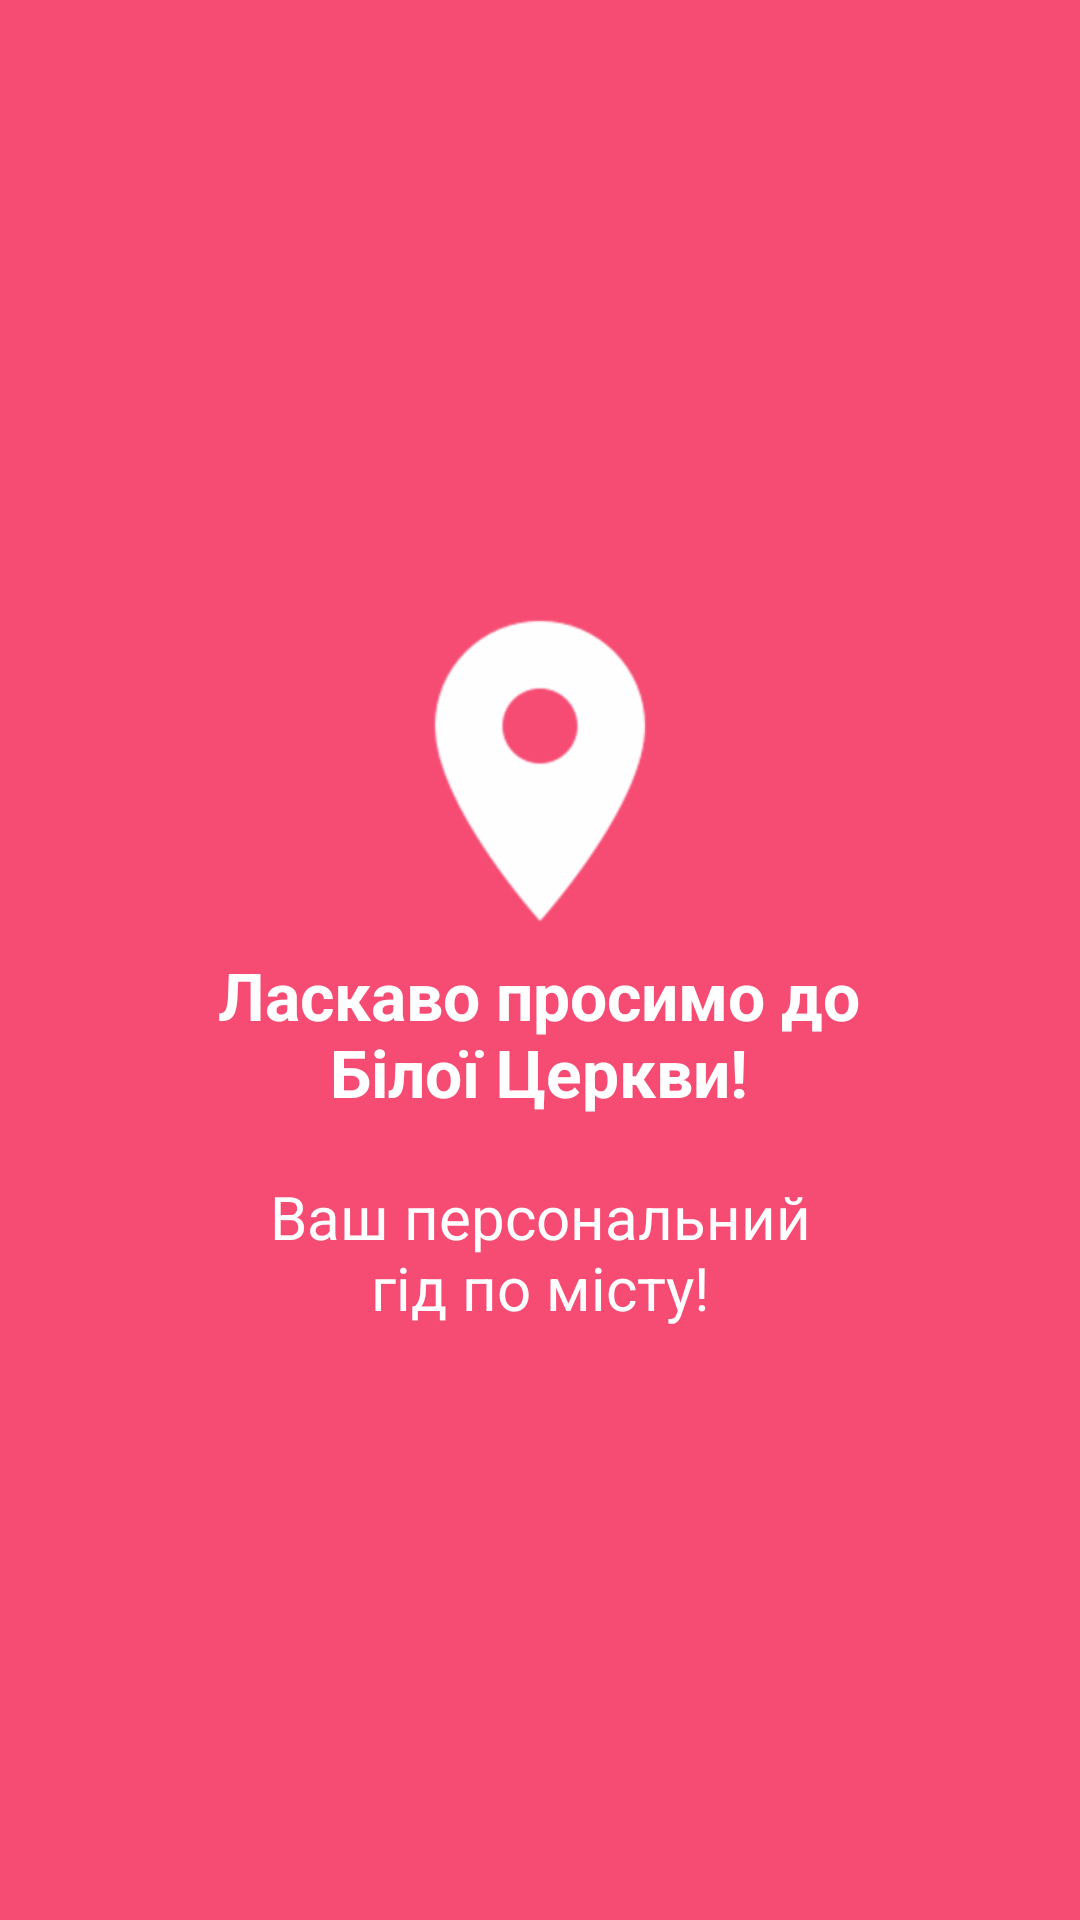

Icons on this 1080 x 1920 Android screen, each with the point to tap as (x,y):
room: (540,770)
